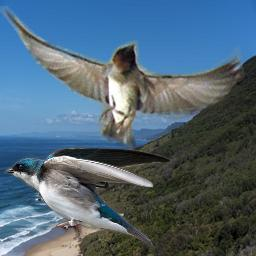Swallow: (0, 6, 246, 154), (4, 145, 172, 249)
